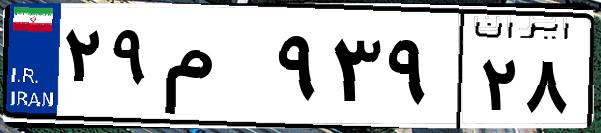2: (57, 26, 110, 100), (475, 38, 525, 113)
3: (330, 28, 385, 110)
8: (525, 38, 570, 115)
9: (270, 28, 330, 110), (385, 28, 445, 110), (110, 28, 158, 98)
م: (158, 20, 270, 120)
